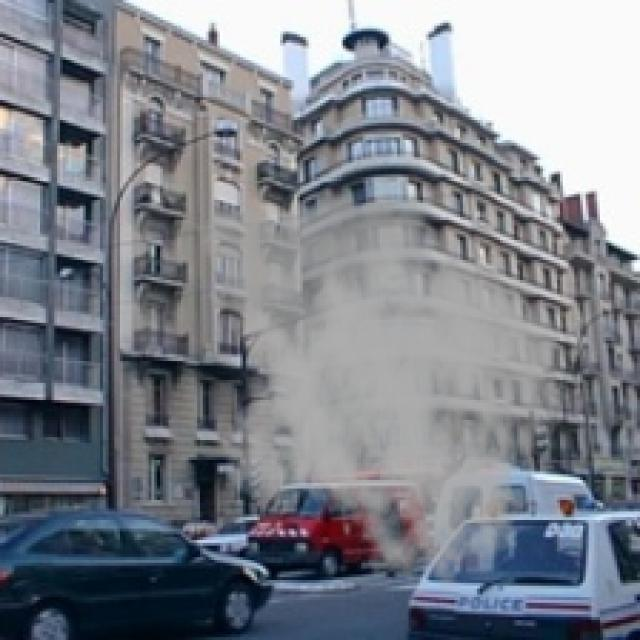smoke: (183, 180, 566, 594)
